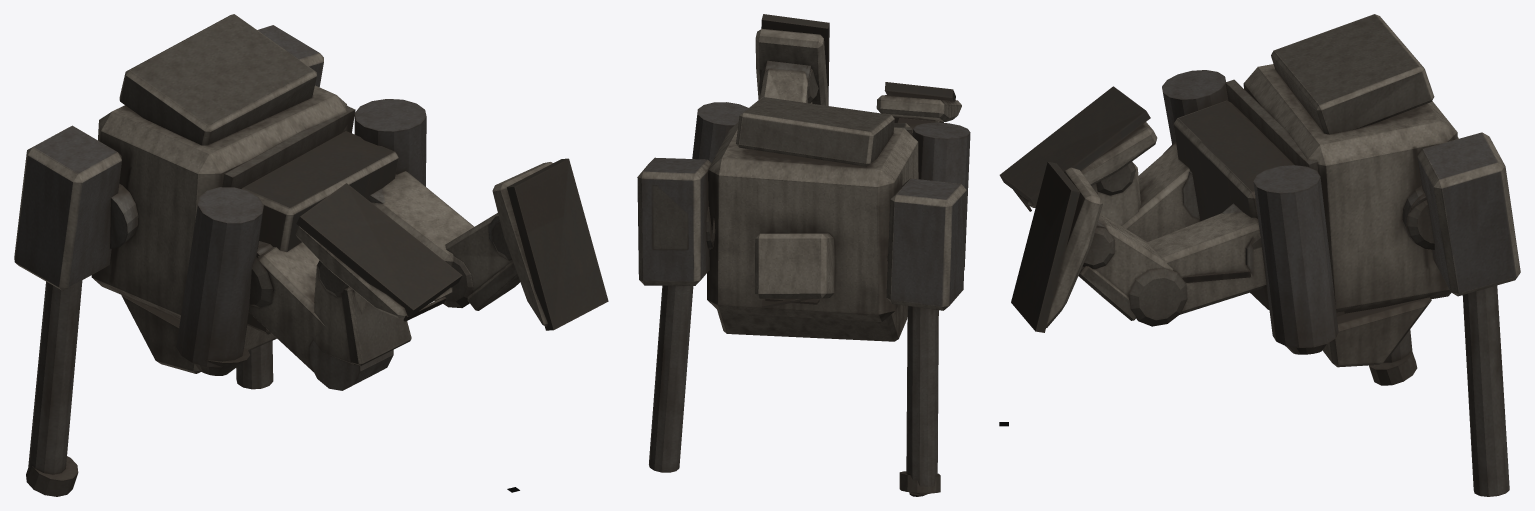
File: ord_paragon_wreck.fbx
3 renders of one model, left to right at view 1: azimuth 30°, elevation 25°; view 2: azimuth 150°, elevation 25°; view 3: azimuth 270°, elevation 25°, orthographic. The views are drawn at different scales.
Visible parts, largest first — view 1: torso_bar, base_bar, footR_bar, footL_bar, thighL_bar, shinL_bar, thighR_bar, shinR_bar; view 2: torso_bar, base_bar, footR_bar, footL_bar, shinR_bar; view 3: torso_bar, base_bar, thighR_bar, footR_bar, footL_bar, shinR_bar, thighL_bar, shinL_bar.
Boxes of the visible parts, x1,y1,x2,y2 form: torso_bar: (14, 14, 355, 496); base_bar: (176, 99, 426, 375); footR_bar: (492, 158, 608, 330); footL_bar: (295, 183, 462, 321); thighL_bar: (248, 241, 393, 390); shinL_bar: (313, 260, 411, 365); thighR_bar: (369, 171, 474, 307); shinR_bar: (445, 213, 520, 310); torso_bar: (637, 97, 966, 496); base_bar: (692, 102, 970, 269); footR_bar: (755, 14, 829, 105); footL_bar: (876, 82, 961, 121); shinR_bar: (758, 60, 818, 103); torso_bar: (1225, 14, 1520, 496); base_bar: (1162, 70, 1338, 354); thighR_bar: (1128, 203, 1266, 326); footR_bar: (1011, 162, 1102, 332); footL_bar: (999, 86, 1157, 211); shinR_bar: (1078, 213, 1173, 320); thighL_bar: (1122, 141, 1199, 241); shinL_bar: (1091, 161, 1141, 225).
Bounding box in the file's own units: 937 × 914 × 1064.
Materials: 2 (2 with a texture image).
